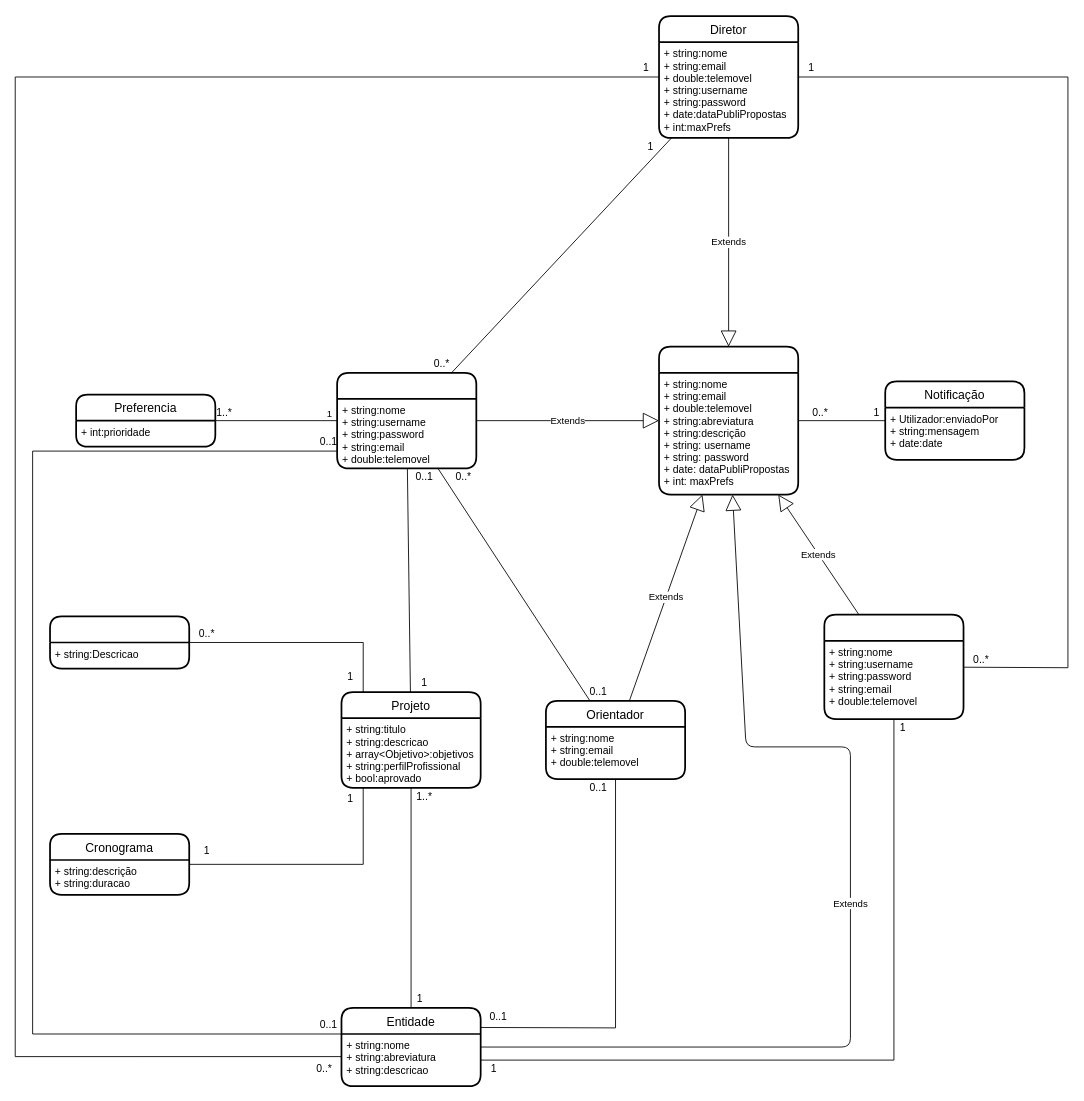
This 1084x1101 diagram has some shape labels left out. The box of each missing label's shape, as (x1, y1, x2, y2) in pixels:
Estagiario: (336, 371, 477, 469)
Objetivo: (49, 615, 190, 669)
Supervisor: (823, 613, 964, 719)
Utilizador: (658, 345, 799, 495)
